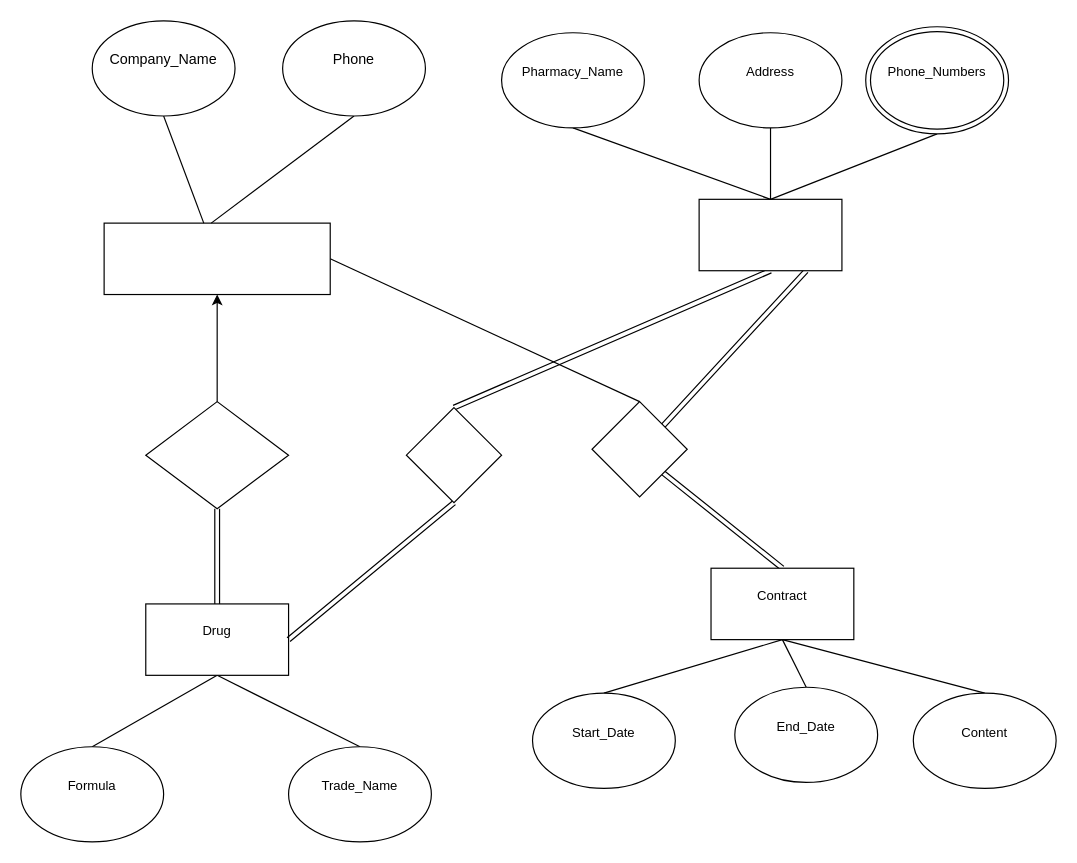
Image size: 1077x863. Some labels were removed from this diagram. Each missing label, with the box of its shape:
Develops: (145, 400, 289, 509)
Pharmaceutical_Company: (103, 222, 330, 295)
Pharmacy: (698, 198, 842, 271)
Sells: (405, 406, 502, 503)
Signs: (591, 400, 687, 497)
